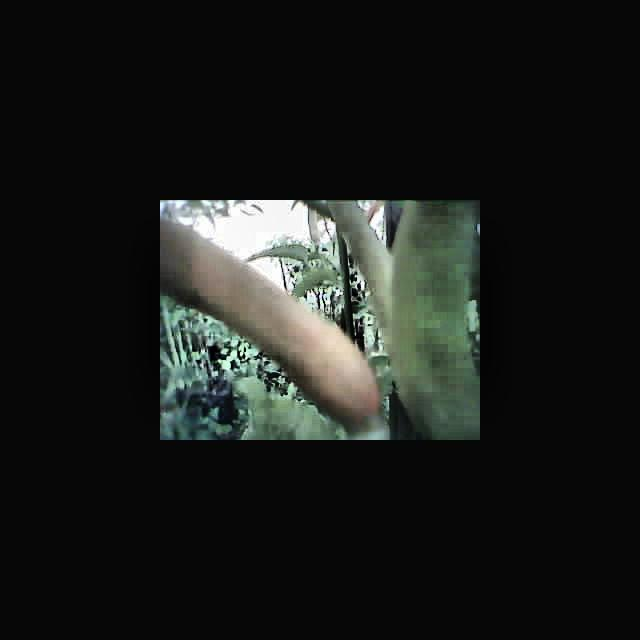Cabai: (160, 212, 333, 410)
